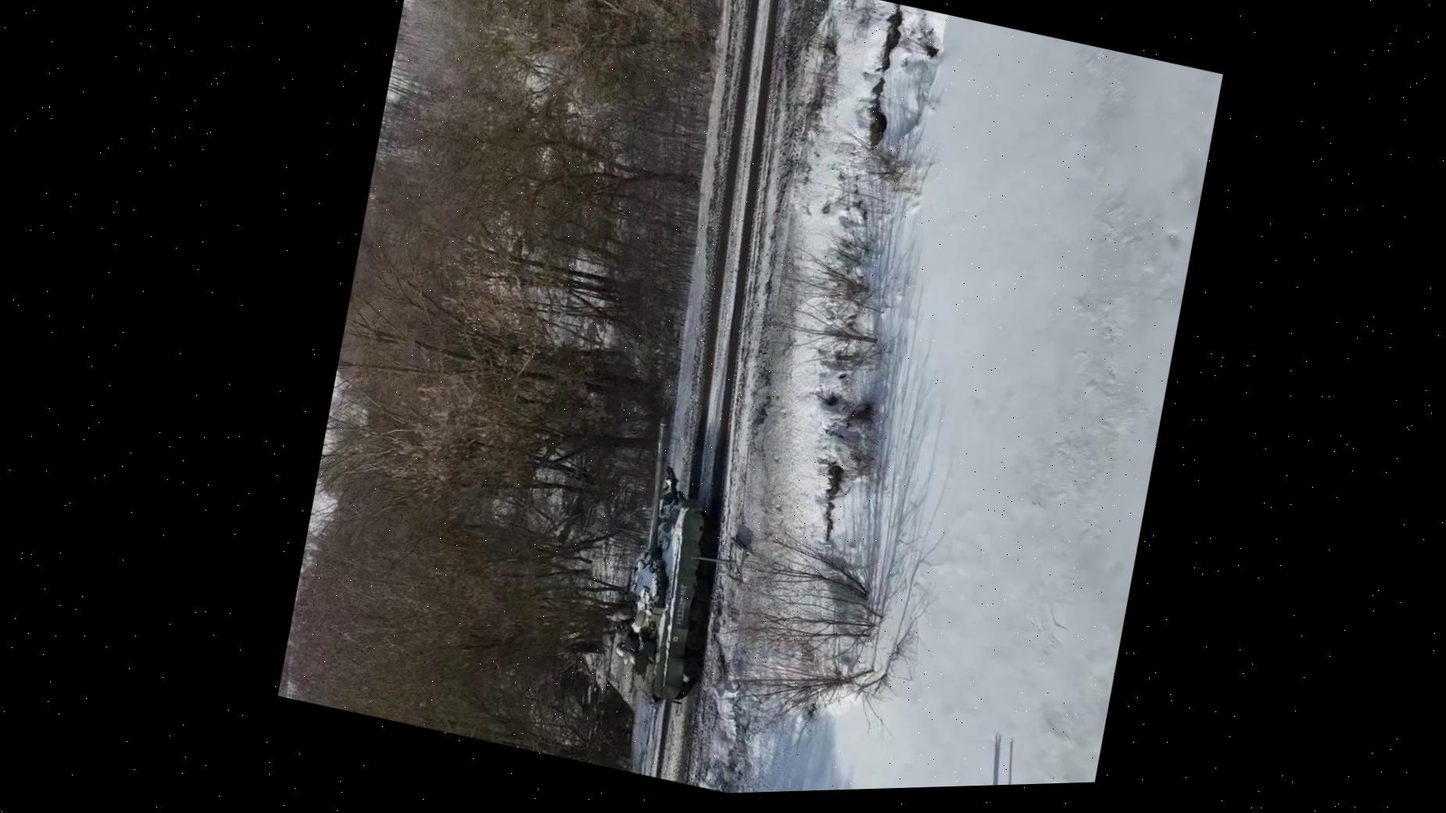tank: (580, 413, 762, 716)
